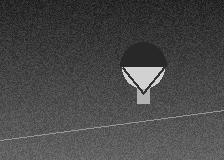helmet: (120, 42, 166, 93)
